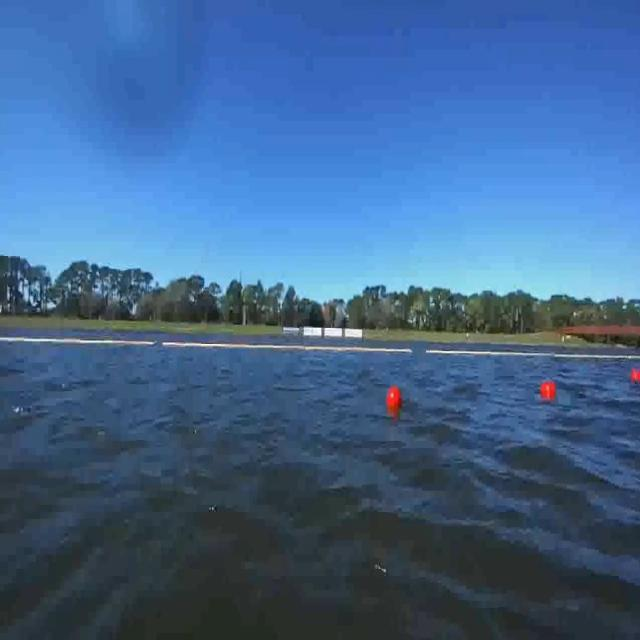red-buoy: (540, 381, 556, 401), (385, 384, 399, 406), (630, 368, 640, 382)
